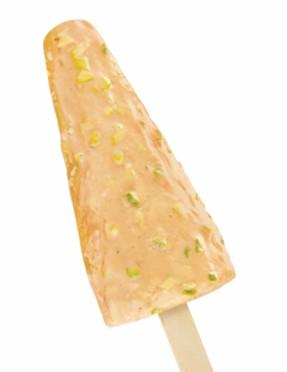Kulfi: (45, 19, 237, 330)
